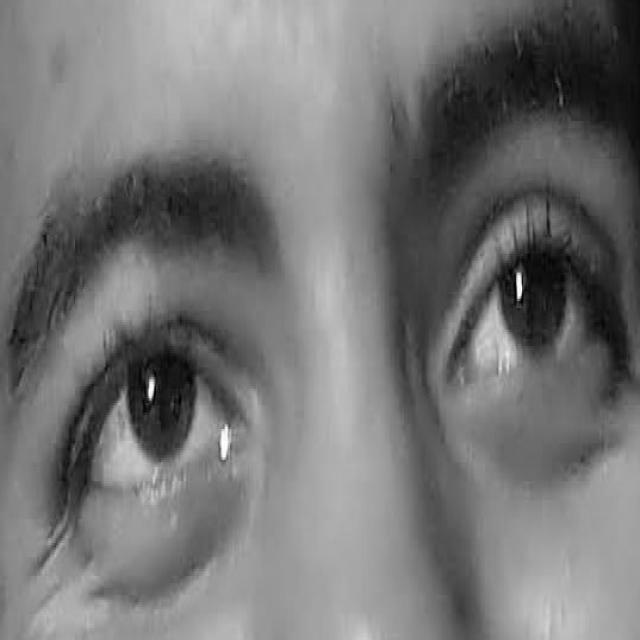real: (21, 148, 631, 558)
